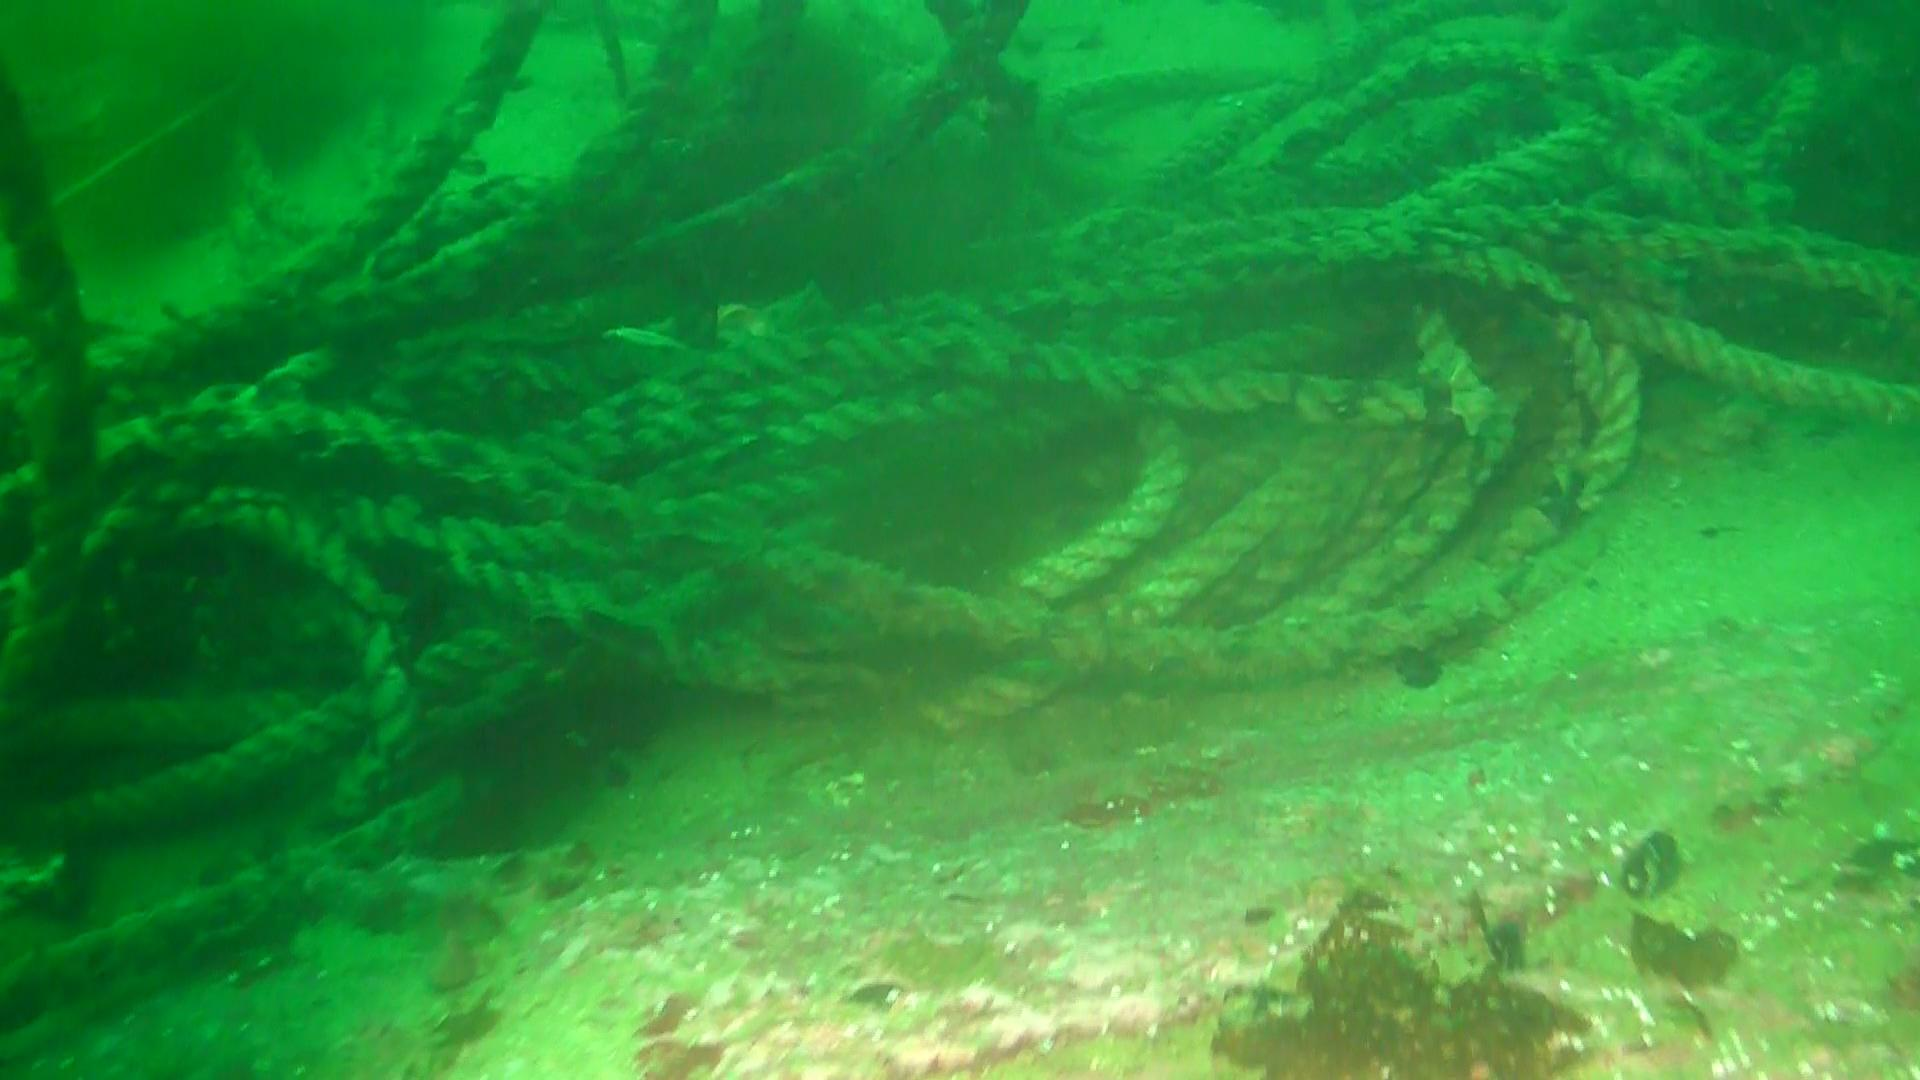bundle of ropes: (0, 0, 1920, 1033)
